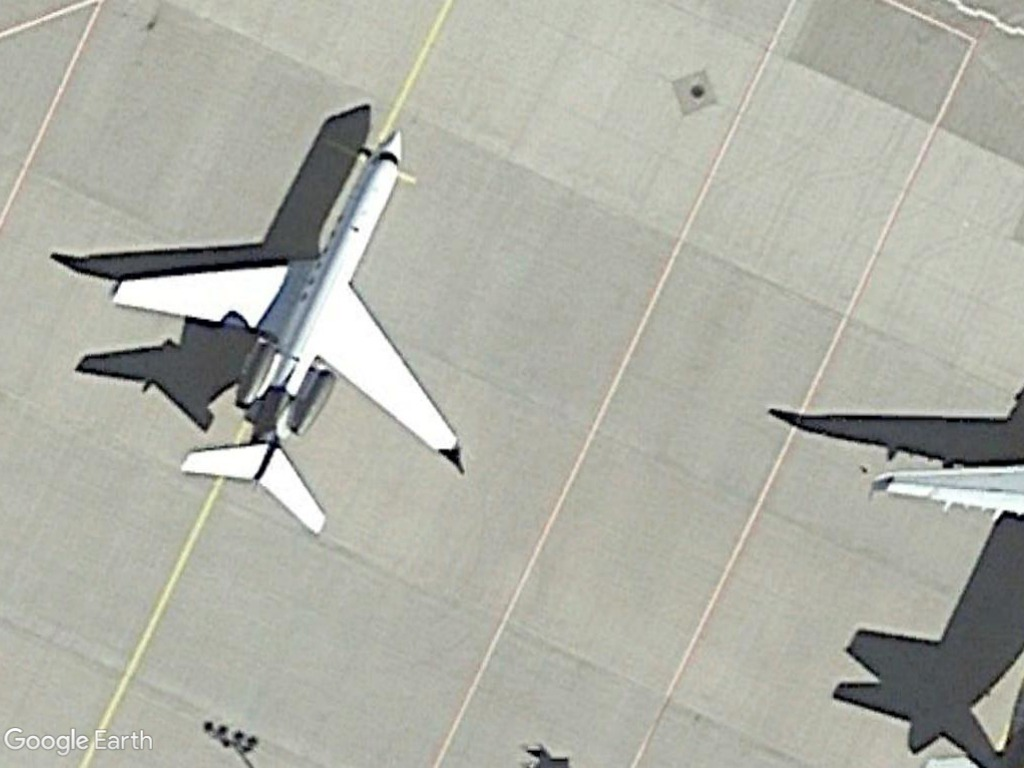chartered: (100, 122, 504, 561)
